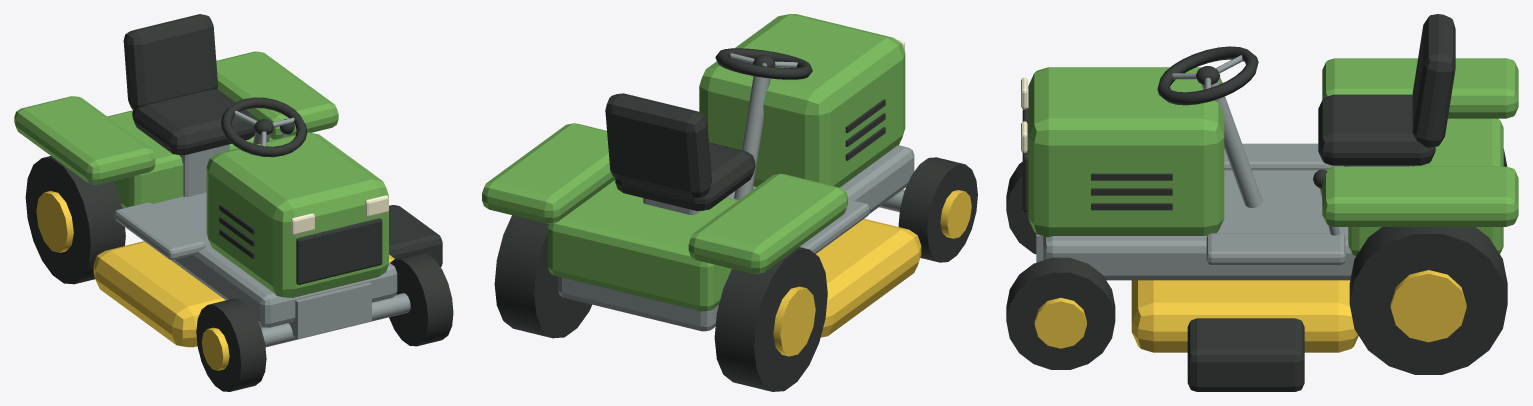
The model's file is riding_lawnmower.glb.
The picture shows the model from 3 angles, left to right: view 1: azimuth 30°, elevation 25°; view 2: azimuth 150°, elevation 25°; view 3: azimuth 270°, elevation 25°; orthographic projection. The views are drawn at different scales.
Visible parts, largest first — view 1: Engine hood, Rear wheel fender, Wide mower cutting deck, Mower rear tire, Padded mower seat back, Mower main chassis, Rear wheel fender.001, Padded mower seat, Mower front tire.001, Mower front tire, Engine front grille, Rear mower body (+10 smaller); view 2: Engine hood, Rear mower body, Mower rear tire, Rear wheel fender, Padded mower seat back, Rear wheel fender.001, Wide mower cutting deck, Mower rear tire.001, Mower main chassis, Mower front tire, Padded mower seat, Mower rear tire hub (+4 smaller); view 3: Engine hood, Mower rear tire.001, Mower main chassis, Wide mower cutting deck, Rear wheel fender.001, Deck side discharge chute, Mower front tire.001, Rear wheel fender, Padded mower seat, Padded mower seat back, Mower foot platform.001, Mower rear tire hub.001 (+10 smaller).
Part boxes in pixels (<box>): Engine hood: <box>206,132,388,297</box>; Rear wheel fender: <box>14,96,155,184</box>; Wide mower cutting deck: <box>93,241,394,347</box>; Mower rear tire: <box>25,156,125,284</box>; Padded mower seat back: <box>123,14,217,110</box>; Mower main chassis: <box>122,192,397,327</box>; Rear wheel fender.001: <box>216,51,338,139</box>; Padded mower seat: <box>132,89,255,155</box>; Mower front tire.001: <box>389,253,453,346</box>; Mower front tire: <box>196,298,266,391</box>; Engine front grille: <box>296,218,382,284</box>; Rear mower body: <box>107,110,273,208</box>; Engine hood: <box>699,14,905,187</box>; Rear mower body: <box>548,180,737,311</box>; Mower rear tire: <box>714,247,827,391</box>; Rear wheel fender: <box>688,174,847,273</box>; Padded mower seat back: <box>605,93,711,198</box>; Rear wheel fender.001: <box>482,123,615,223</box>; Wide mower cutting deck: <box>816,218,921,337</box>; Mower rear tire.001: <box>494,215,591,338</box>; Mower main chassis: <box>558,145,914,331</box>; Mower front tire: <box>898,157,977,262</box>; Padded mower seat: <box>615,142,755,210</box>; Mower rear tire hub: <box>773,286,815,356</box>; Engine hood: <box>1028,67,1224,237</box>; Mower rear tire.001: <box>1349,227,1507,374</box>; Mower main chassis: <box>1043,170,1355,280</box>; Wide mower cutting deck: <box>1131,280,1358,352</box>; Rear wheel fender.001: <box>1322,166,1518,226</box>; Deck side discharge chute: <box>1187,318,1304,391</box>; Mower front tire.001: <box>1006,257,1115,369</box>; Rear wheel fender: <box>1322,58,1518,118</box>; Padded mower seat: <box>1318,94,1435,165</box>; Padded mower seat back: <box>1412,14,1455,147</box>; Mower foot platform.001: <box>1206,233,1345,264</box>; Mower rear tire hub.001: <box>1390,270,1466,342</box>.
Bounding box in the file's own units: 1.53 × 1.11 × 1.88.
